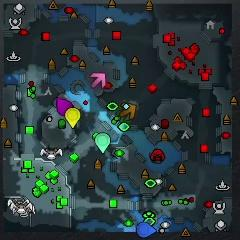p1: (137, 221, 156, 237)
p2: (95, 133, 110, 154)
p3: (57, 98, 73, 116)
p4: (66, 107, 80, 129)
x1: (91, 72, 105, 89)
x5: (121, 103, 136, 118)
